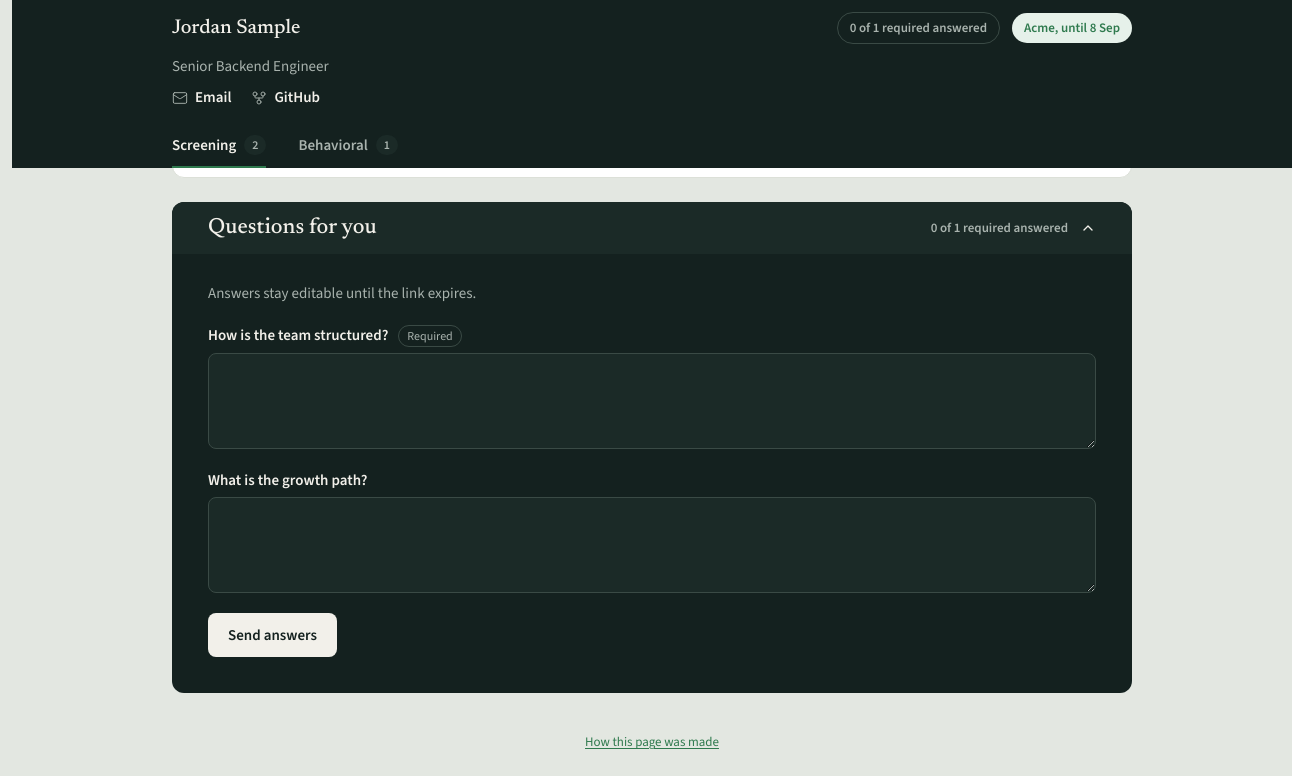
answer drafts and editing › a failed send keeps the draft; retry clears it only after success
(page scrolled)
Type "Four squads." into the text box labelled "How is the team structured? Required" at (652,401), box top-left (208, 353), bottom-right (1096, 449)
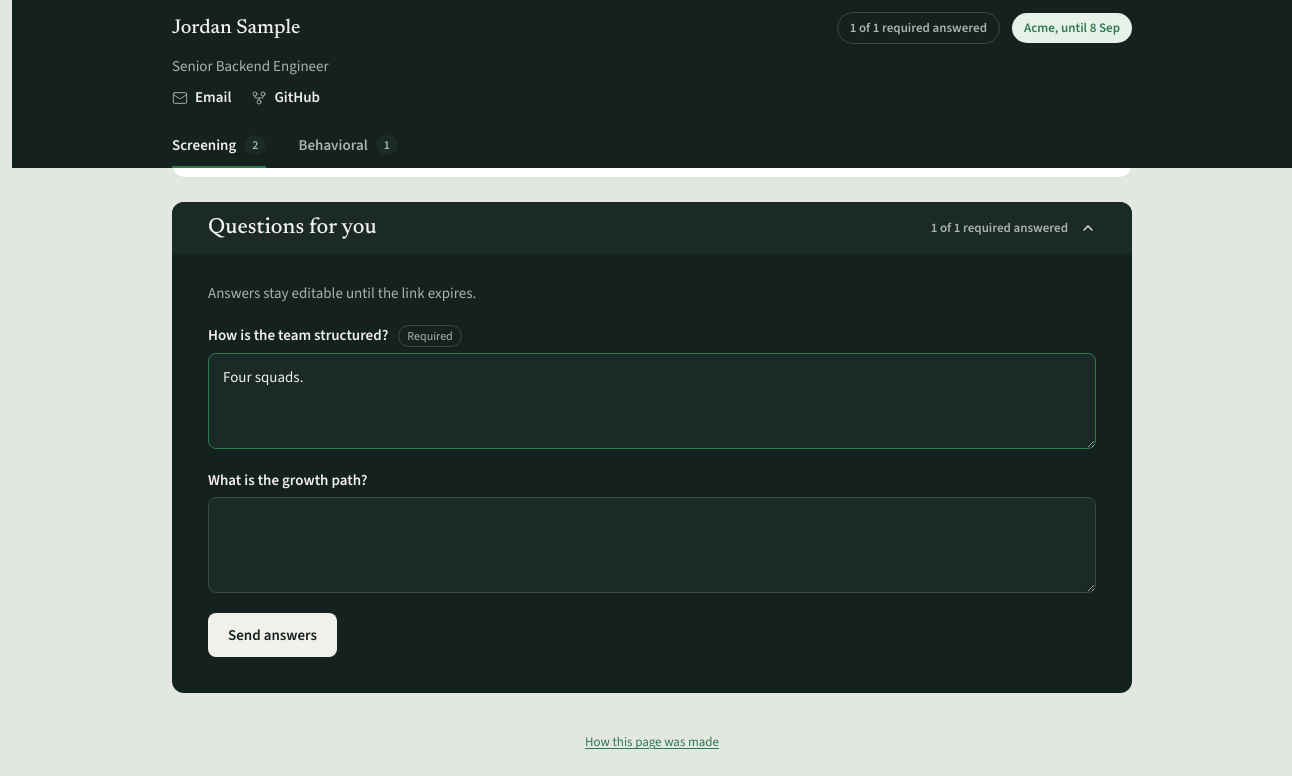
Click the button "Send answers" at (272,635), box top-left (208, 613), bottom-right (337, 657)
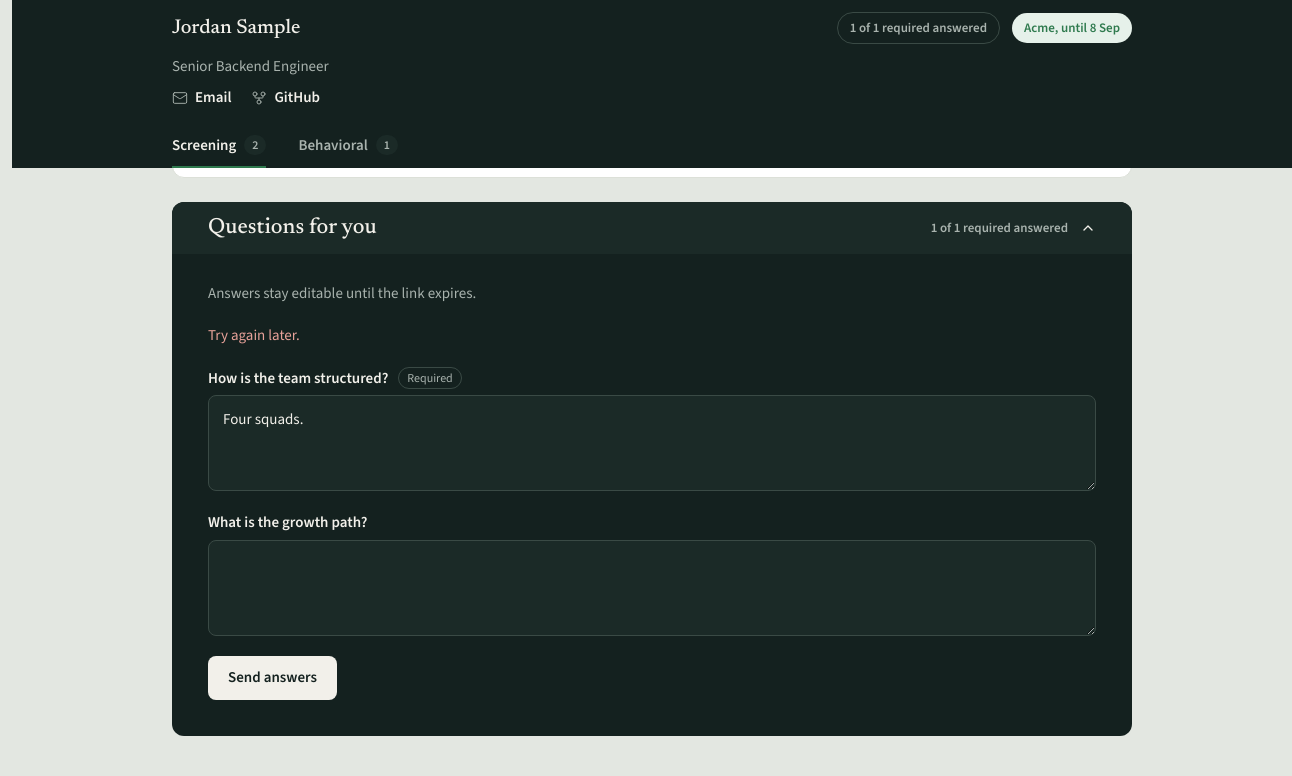
Check: the message reads "Try again later.", box top-left (208, 325), bottom-right (300, 345)
Click the button "Send answers" at (272,678), box top-left (208, 656), bottom-right (337, 700)
(page scrolled)
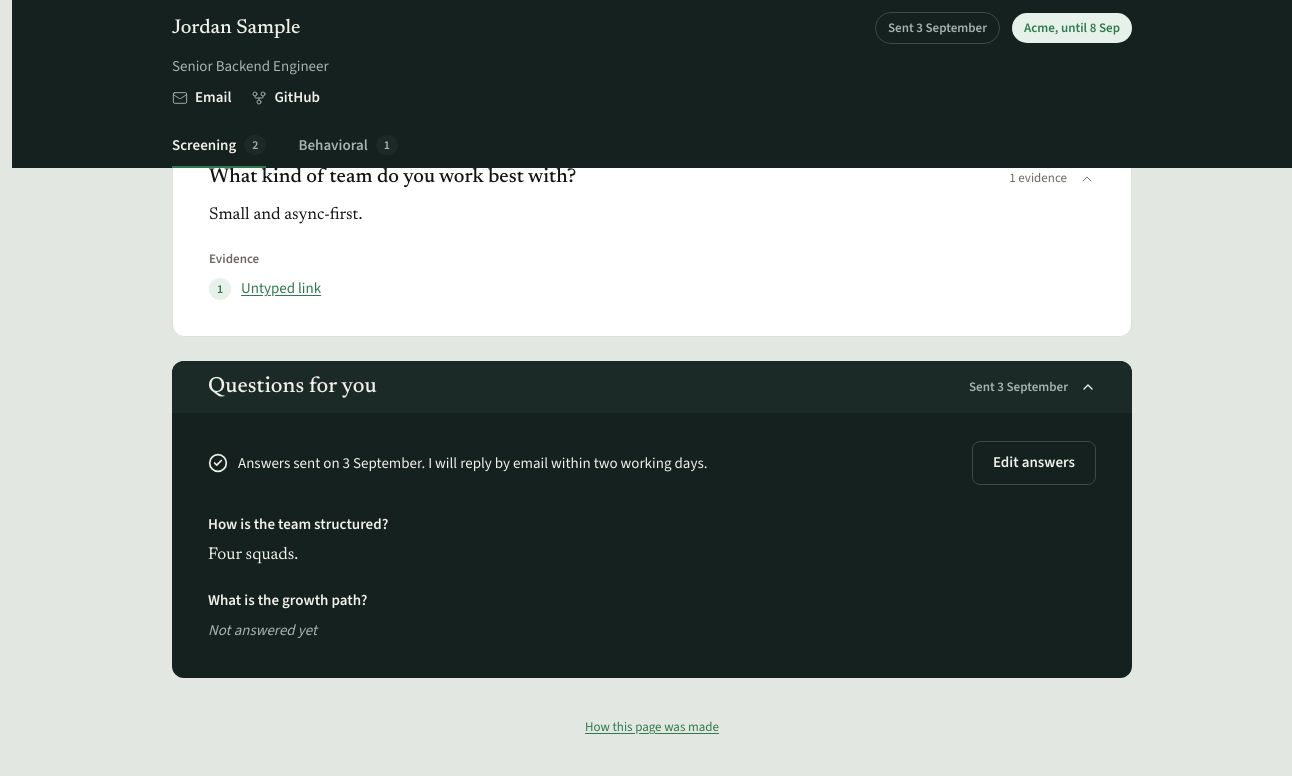
Check: the message shows "Answers sent on 3 September", box top-left (208, 452), bottom-right (707, 474)
Check: the text "Four squads." is shown, box top-left (208, 547), bottom-right (298, 564)
Check: the text "Not answered yet" is shown, box top-left (208, 620), bottom-right (317, 640)
